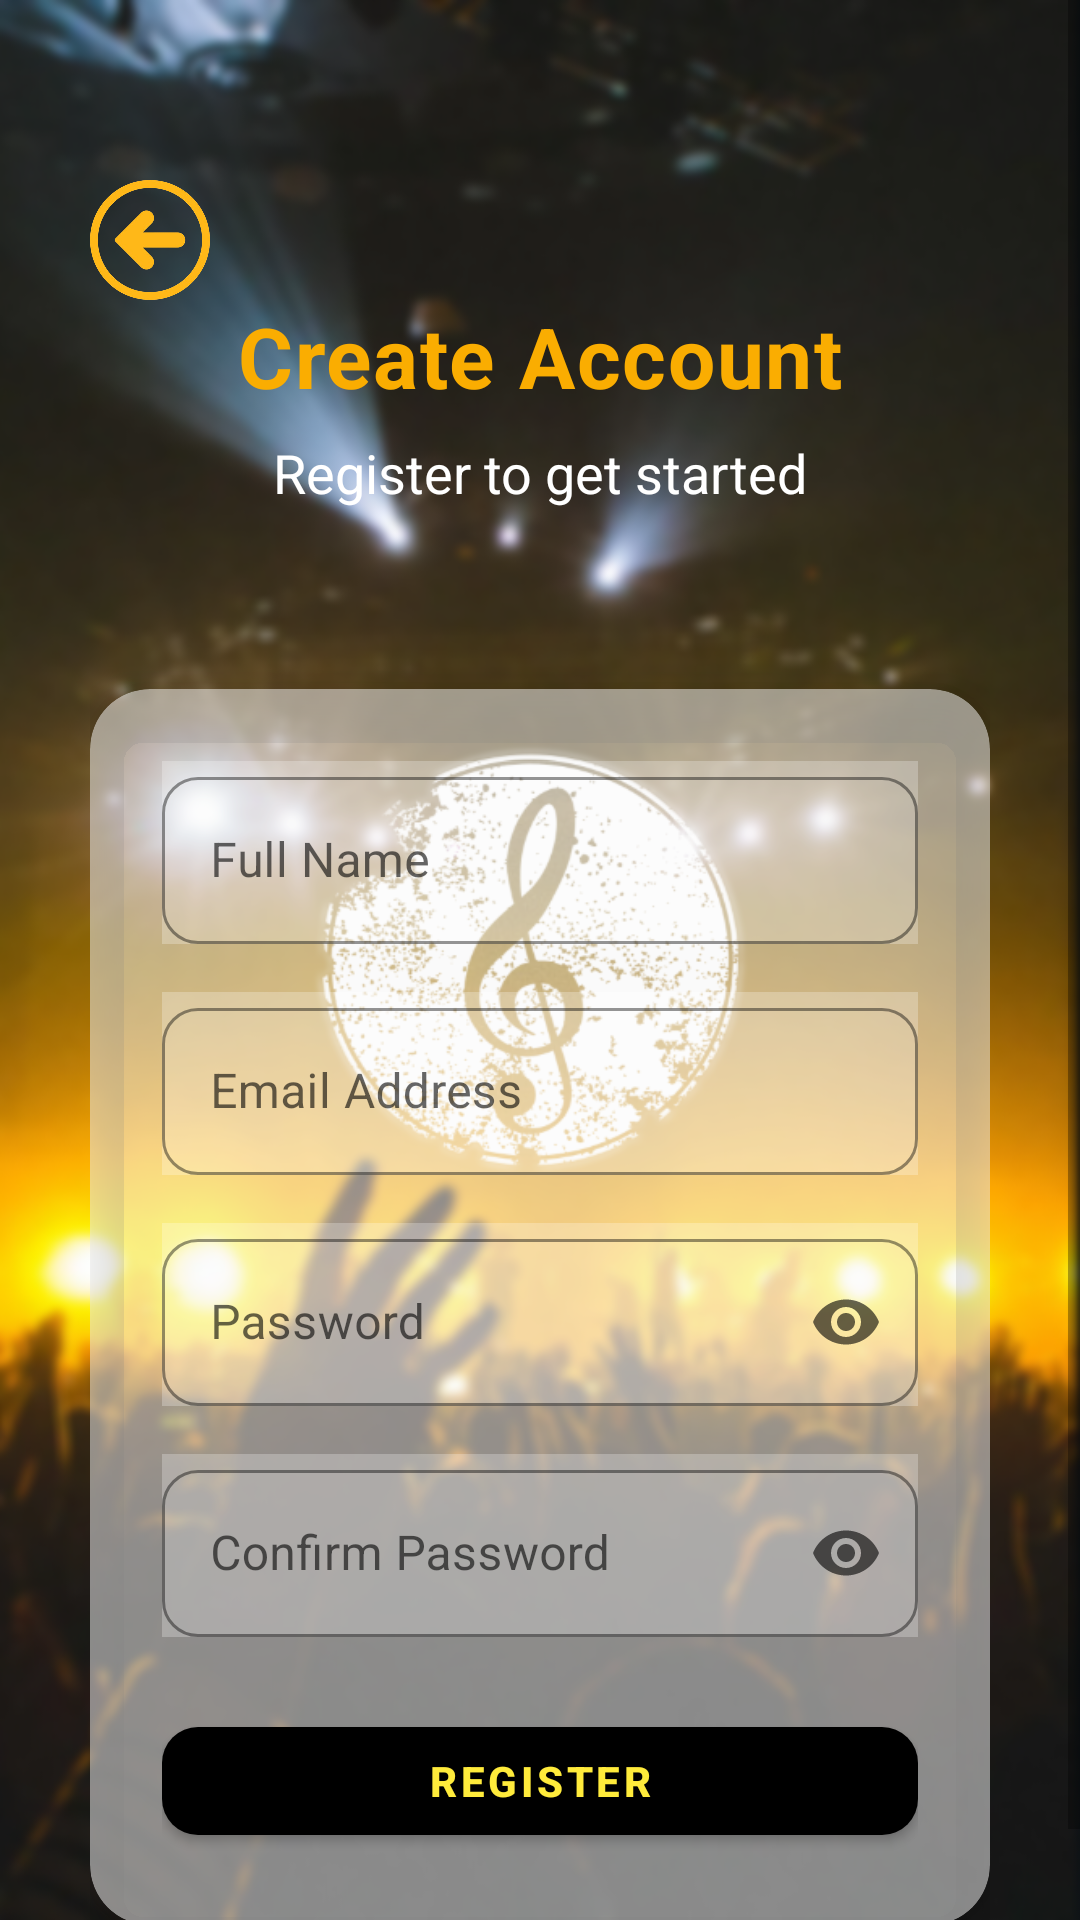

Icons on this 1080px x 1920px Android screen, each with the point to tap as (x,y):
Back: (150,240)
